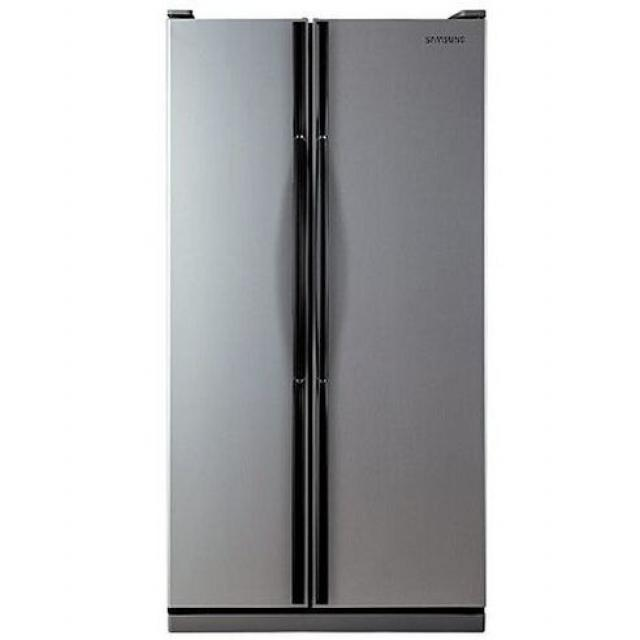refrigerator: (167, 9, 489, 636)
